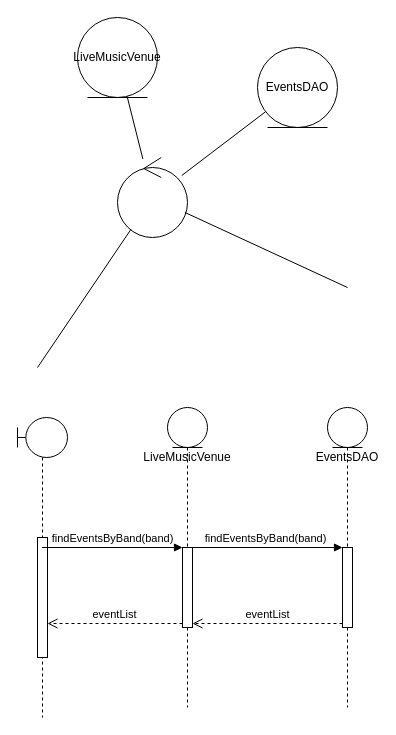
This 396x735 diagram has some shape labels left out. Each missing label, with the box of its shape:
GUI: (16, 416, 68, 718)
Look up all events by a given band: (116, 156, 188, 238)
